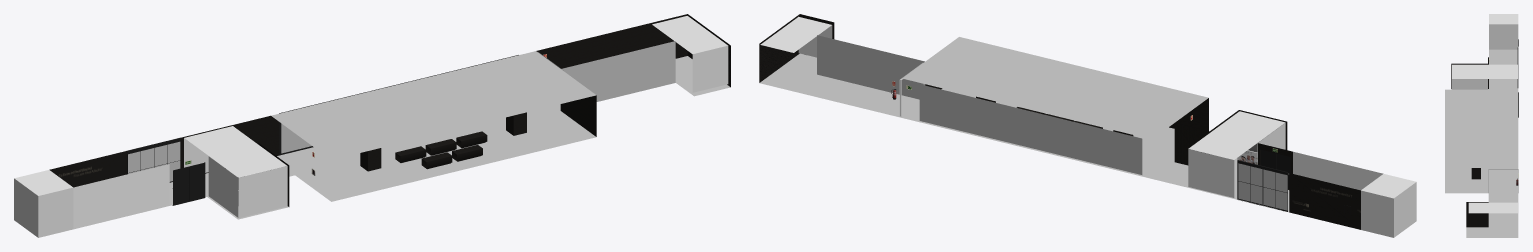
The model's file is salaTuEresRealMadrid.FBX.
The picture shows the model from 3 angles, left to right: view 1: azimuth 30°, elevation 25°; view 2: azimuth 150°, elevation 25°; view 3: azimuth 270°, elevation 25°; orthographic projection. The views are drawn at different scales.
Parts seen in each view (by area): view 1: salaTuEres, autoilum, videoWall_mosaico, videoWall_Final; view 2: salaTuEres, videoWall_Final, autoilum, videoWall_mosaico; view 3: salaTuEres, autoilum, videoWall_mosaico.
Boxes of the visible parts, x1,y1,x2,y2 form: salaTuEres: (14,14,730,237); autoilum: (184,126,287,217); videoWall_mosaico: (127,138,180,182); videoWall_Final: (279,55,518,155); salaTuEres: (759,14,1416,237); videoWall_Final: (919,84,1142,174); autoilum: (1188,111,1285,164); videoWall_mosaico: (1237,160,1287,211); salaTuEres: (1445,14,1518,237); autoilum: (1452,64,1517,89); videoWall_mosaico: (1517,47,1518,87).
Size of what is drawn, in the model's own units: 12817 by 762 by 2009.
